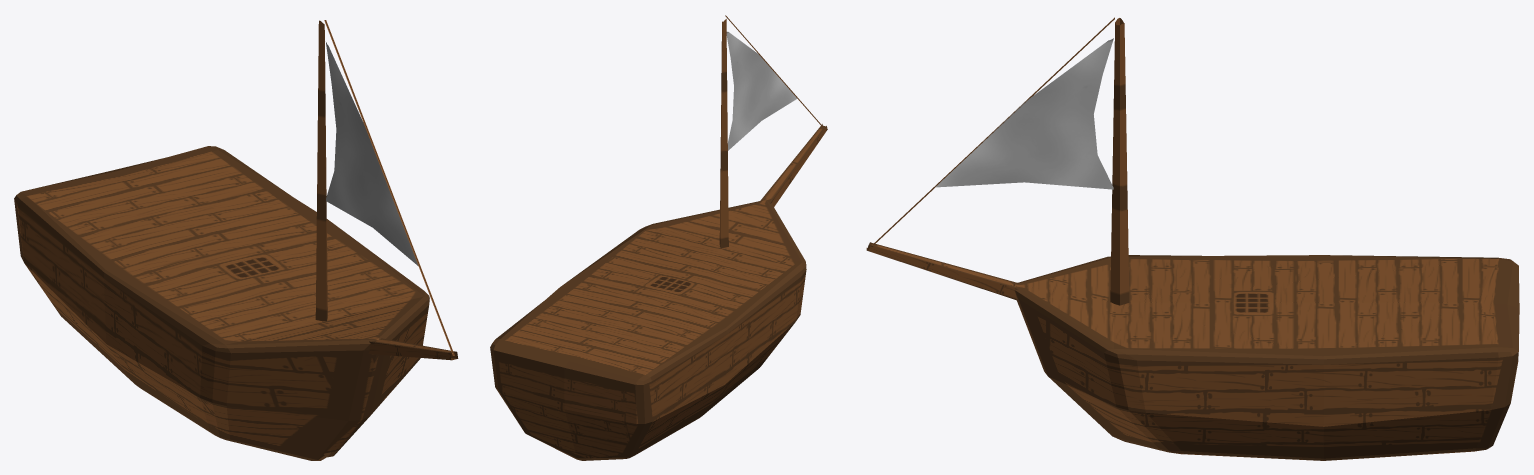
The model's file is ship1.fbx.
3 renders of one model, left to right at view 1: azimuth 30°, elevation 25°; view 2: azimuth 150°, elevation 25°; view 3: azimuth 270°, elevation 25°, orthographic. The views are drawn at different scales.
Parts seen in each view (by area): view 1: hull, ropes, sail.002, hull.001; view 2: hull, ropes, sail.002, hull.001; view 3: hull, ropes, sail.002, hull.001.
Boxes of the visible parts, x1,y1,x2,y2 form: hull: (14, 146, 429, 460); ropes: (324, 20, 454, 356); sail.002: (315, 20, 327, 321); hull.001: (368, 338, 458, 360); hull: (490, 200, 806, 460); ropes: (725, 15, 822, 150); sail.002: (719, 19, 728, 248); hull.001: (760, 124, 827, 206); hull: (1014, 255, 1519, 460); ropes: (872, 17, 1114, 244); sail.002: (1110, 18, 1129, 305); hull.001: (866, 242, 1017, 300).
Bounding box in the file's own units: 143 × 281 × 389.
Materials: 1 (1 with a texture image).
